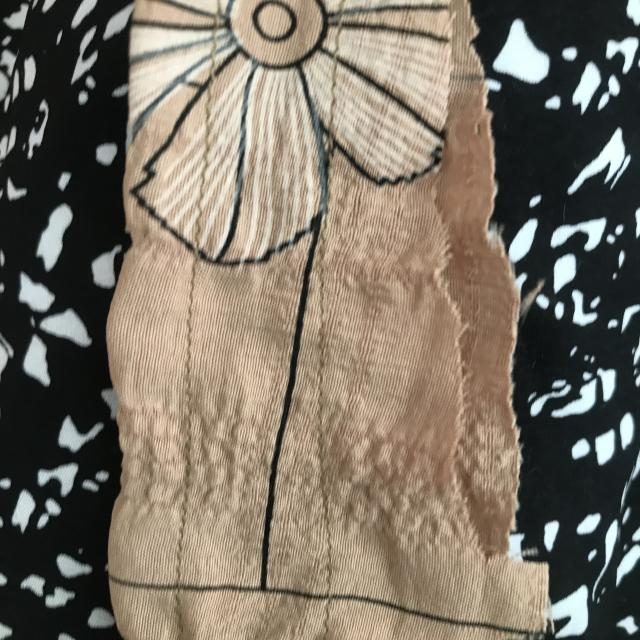good: (181, 272, 215, 408)
